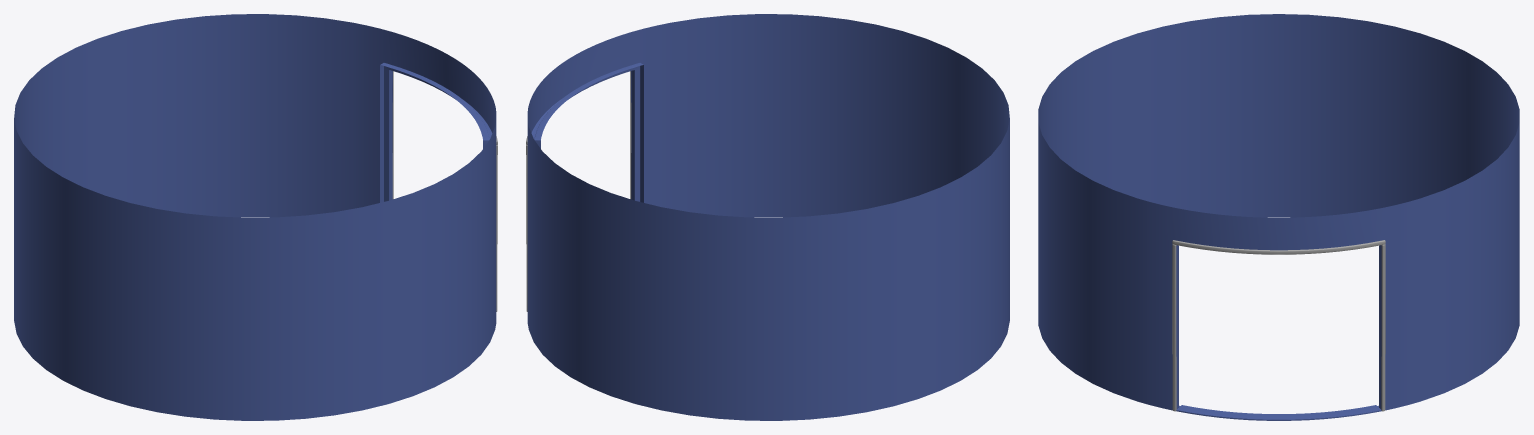
Rendered from ShaftElevator.fbx.
3 renders of one model, left to right at view 1: azimuth 30°, elevation 25°; view 2: azimuth 150°, elevation 25°; view 3: azimuth 270°, elevation 25°, orthographic.
Visible parts, largest first — view 1: ShaftElevator; view 2: ShaftElevator; view 3: ShaftElevator.
Boxes of the visible parts, x1=… form: ShaftElevator: x1=14, y1=14, x2=497, y2=420; ShaftElevator: x1=526, y1=14, x2=1009, y2=420; ShaftElevator: x1=1038, y1=14, x2=1519, y2=420.
Bounding box in the file's own units: 735 × 340 × 730.
